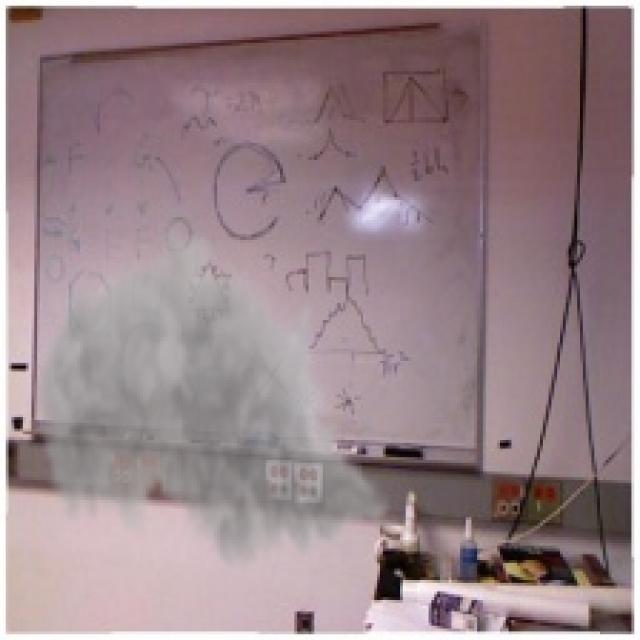smoke: (32, 220, 394, 583)
